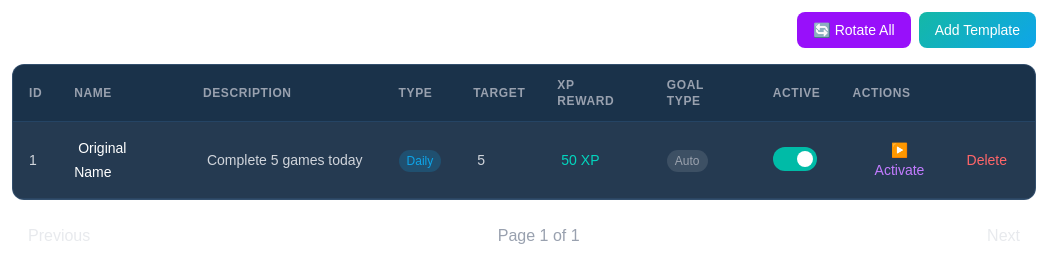
ChallengeTemplatesTable › inline editing › cancels editing on Escape
// Click to edit
Step 1. Click the text "Original Name" → (100, 148), box [74,140,126,180]
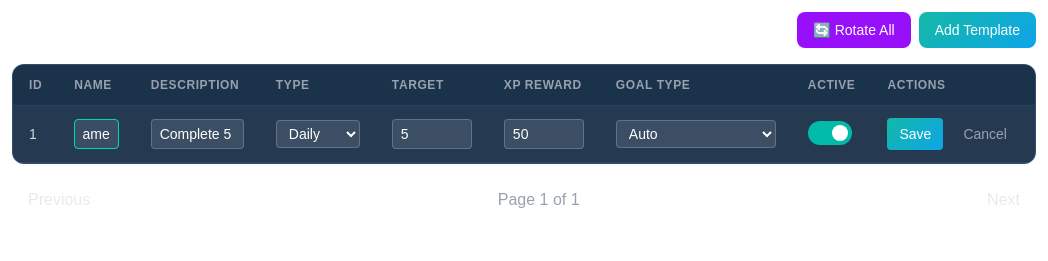
Step 2. Replace the text in the 1st field showing "Original Name" with "Changed Name" → (96, 134), box [74,119,119,149]
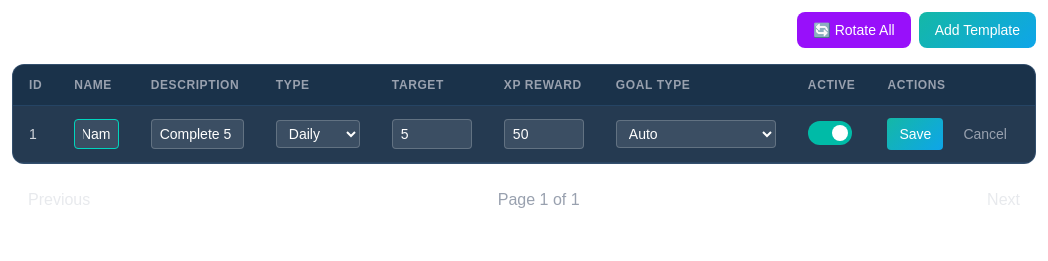
Step 3. Press Escape in the 1st field showing "Original Name", box [74,119,119,149]
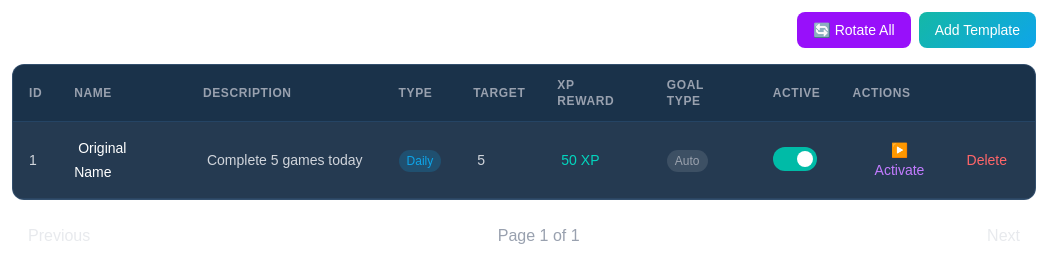
expect the field showing "Changed Name" is not shown: met
expect the text "Original Name" is shown: met, box [74,140,126,180]
